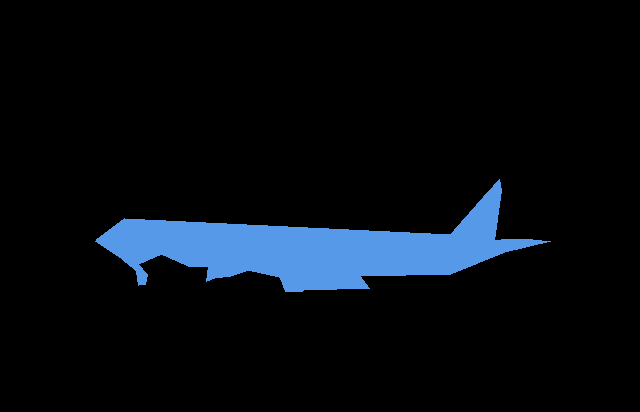Airplane: (95, 179, 550, 292)
